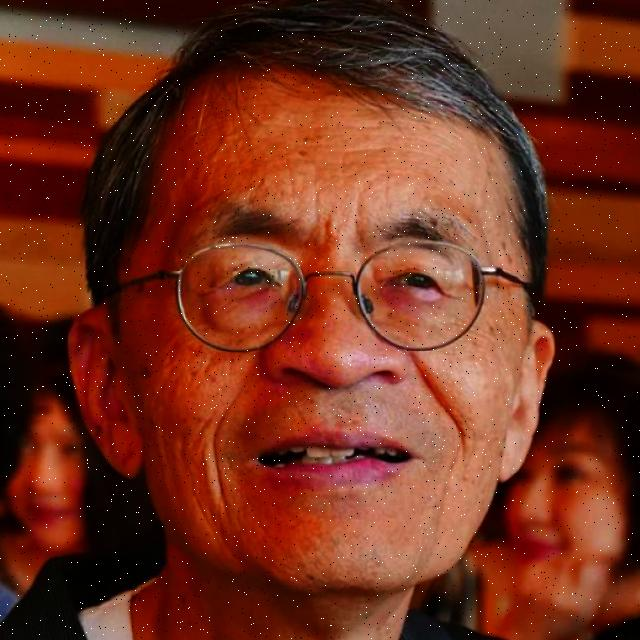puffy_eyes: (201, 297, 273, 326), (387, 292, 450, 319)
